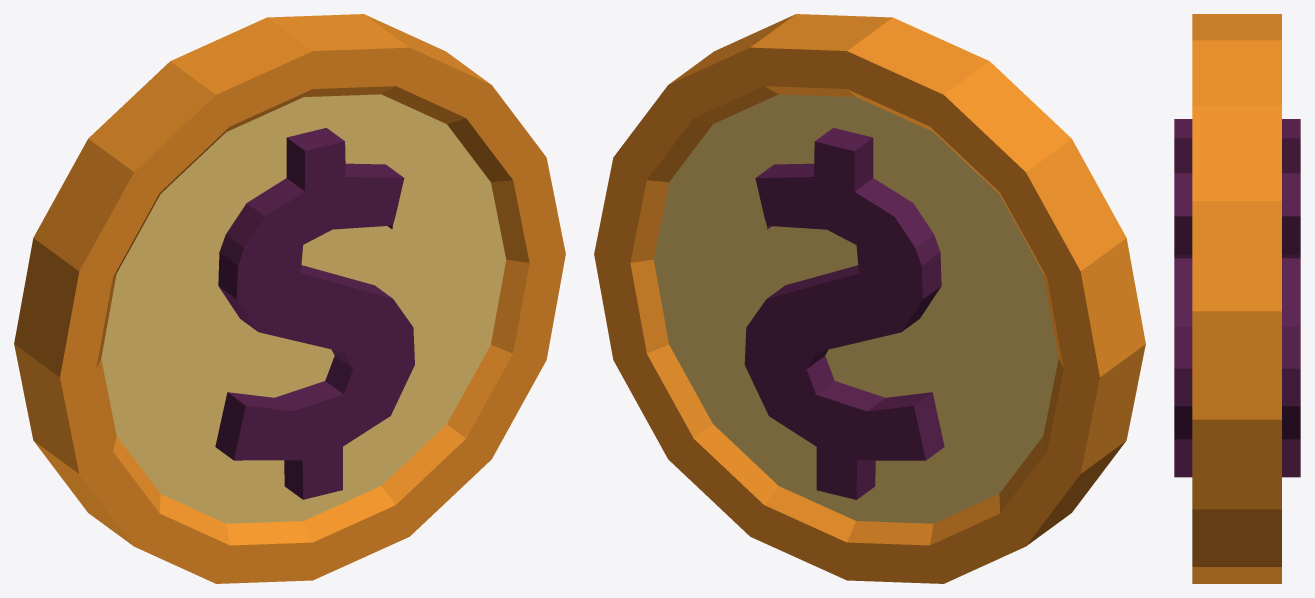
The model's file is coin.fbx.
3 renders of one model, left to right at view 1: azimuth 30°, elevation 25°; view 2: azimuth 150°, elevation 25°; view 3: azimuth 270°, elevation 25°, orthographic. The views are drawn at different scales.
Visible parts, largest first — view 1: Cylinder; view 2: Cylinder; view 3: Cylinder.
Boxes of the visible parts, x1=… form: Cylinder: x1=14, y1=14, x2=565, y2=583; Cylinder: x1=594, y1=14, x2=1145, y2=583; Cylinder: x1=1174, y1=14, x2=1300, y2=583.
Bounding box in the file's own units: 100 × 100 × 22.19.
